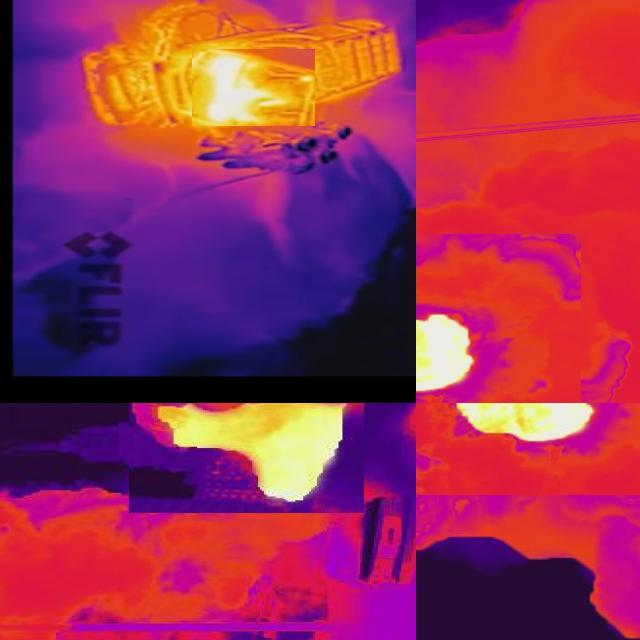fire: (159, 404, 349, 504), (452, 401, 613, 453), (193, 53, 290, 130), (417, 313, 479, 405)
